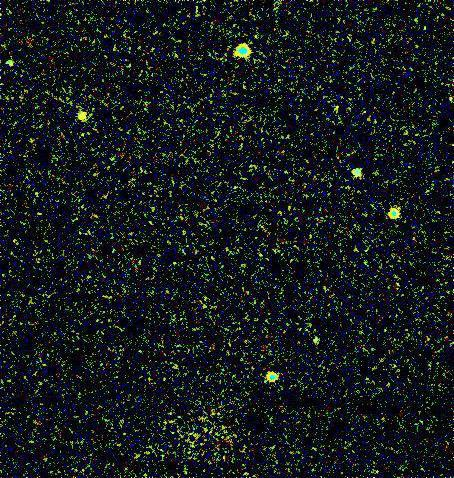star: (62, 102, 92, 132)
